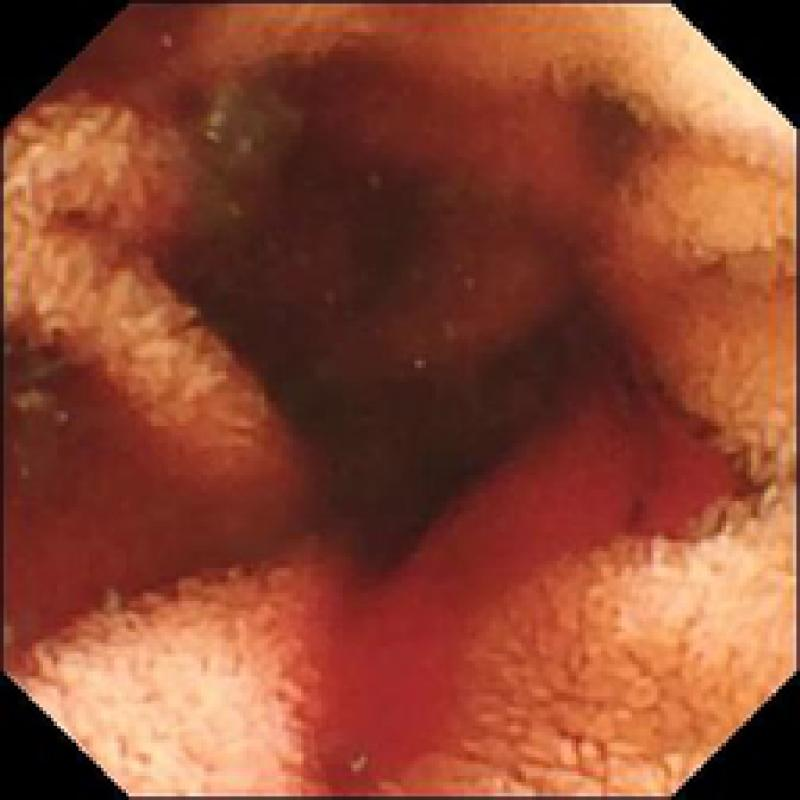bleeding: (0, 389, 736, 757)
